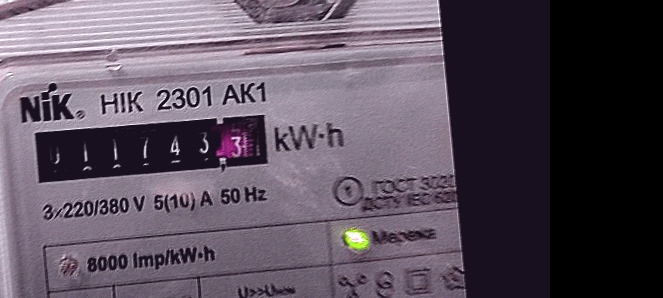0: (46, 136, 63, 165)
1: (107, 130, 121, 159), (78, 133, 90, 161)
3: (196, 125, 212, 153), (227, 131, 244, 157)
4: (166, 128, 182, 156)
7: (136, 127, 153, 157)
screen: (22, 97, 281, 194)
